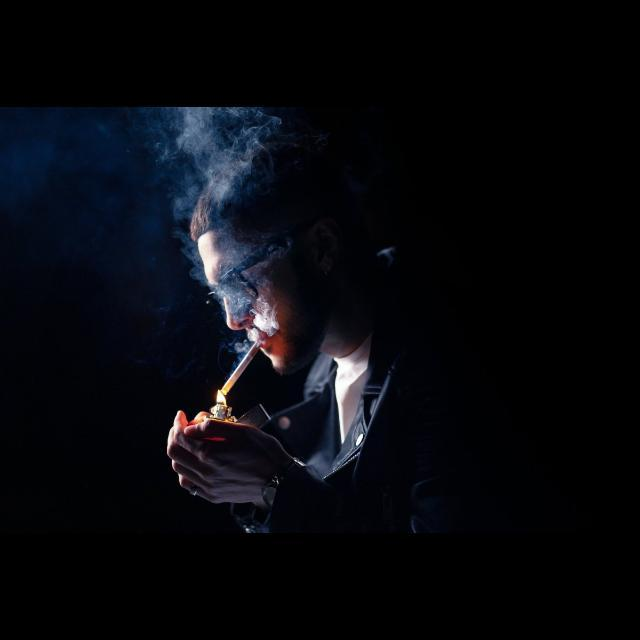rokok: (218, 338, 262, 400)
